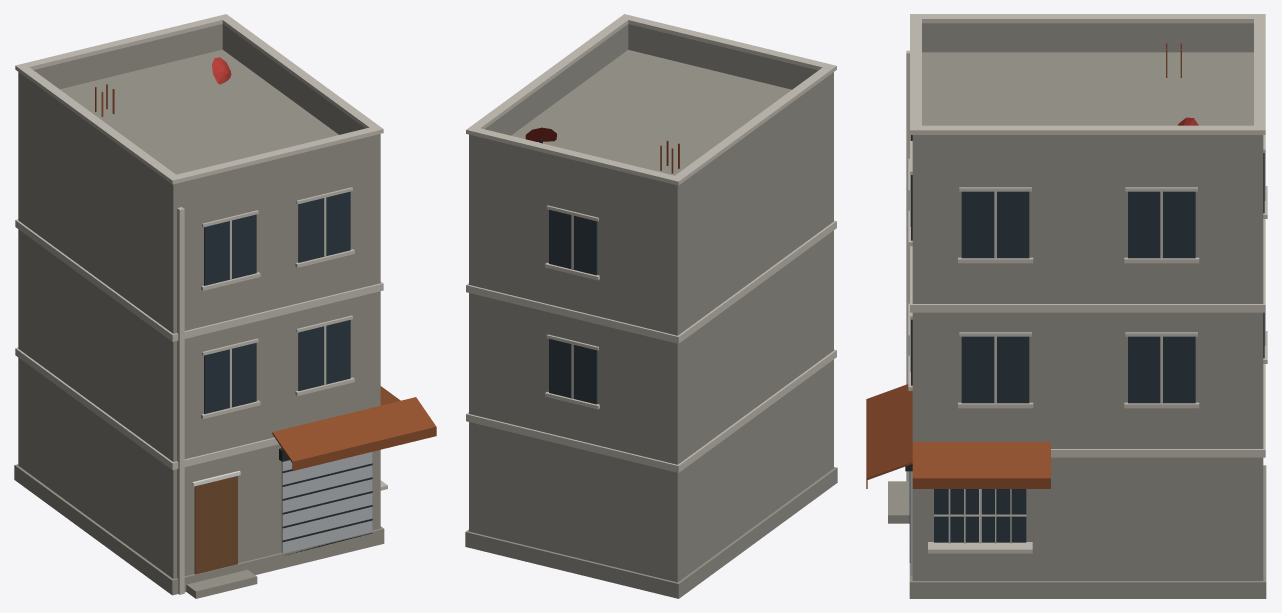
Rendered from BAY_F_Corner_J.glb.
3 renders of one model, left to right at view 1: azimuth 30°, elevation 25°; view 2: azimuth 150°, elevation 25°; view 3: azimuth 270°, elevation 25°, orthographic. The views are drawn at different scales.
Visible parts, largest first — view 1: BAY_F_Corner_J; view 2: BAY_F_Corner_J; view 3: BAY_F_Corner_J.
Boxes of the visible parts, box(x1,y1,x2,y2) form: BAY_F_Corner_J: box(14, 14, 436, 598); BAY_F_Corner_J: box(465, 14, 837, 598); BAY_F_Corner_J: box(866, 14, 1267, 598).
Bounding box in the file's own units: 5.2 × 8.4 × 6.52.
1 material, 1 textured.
